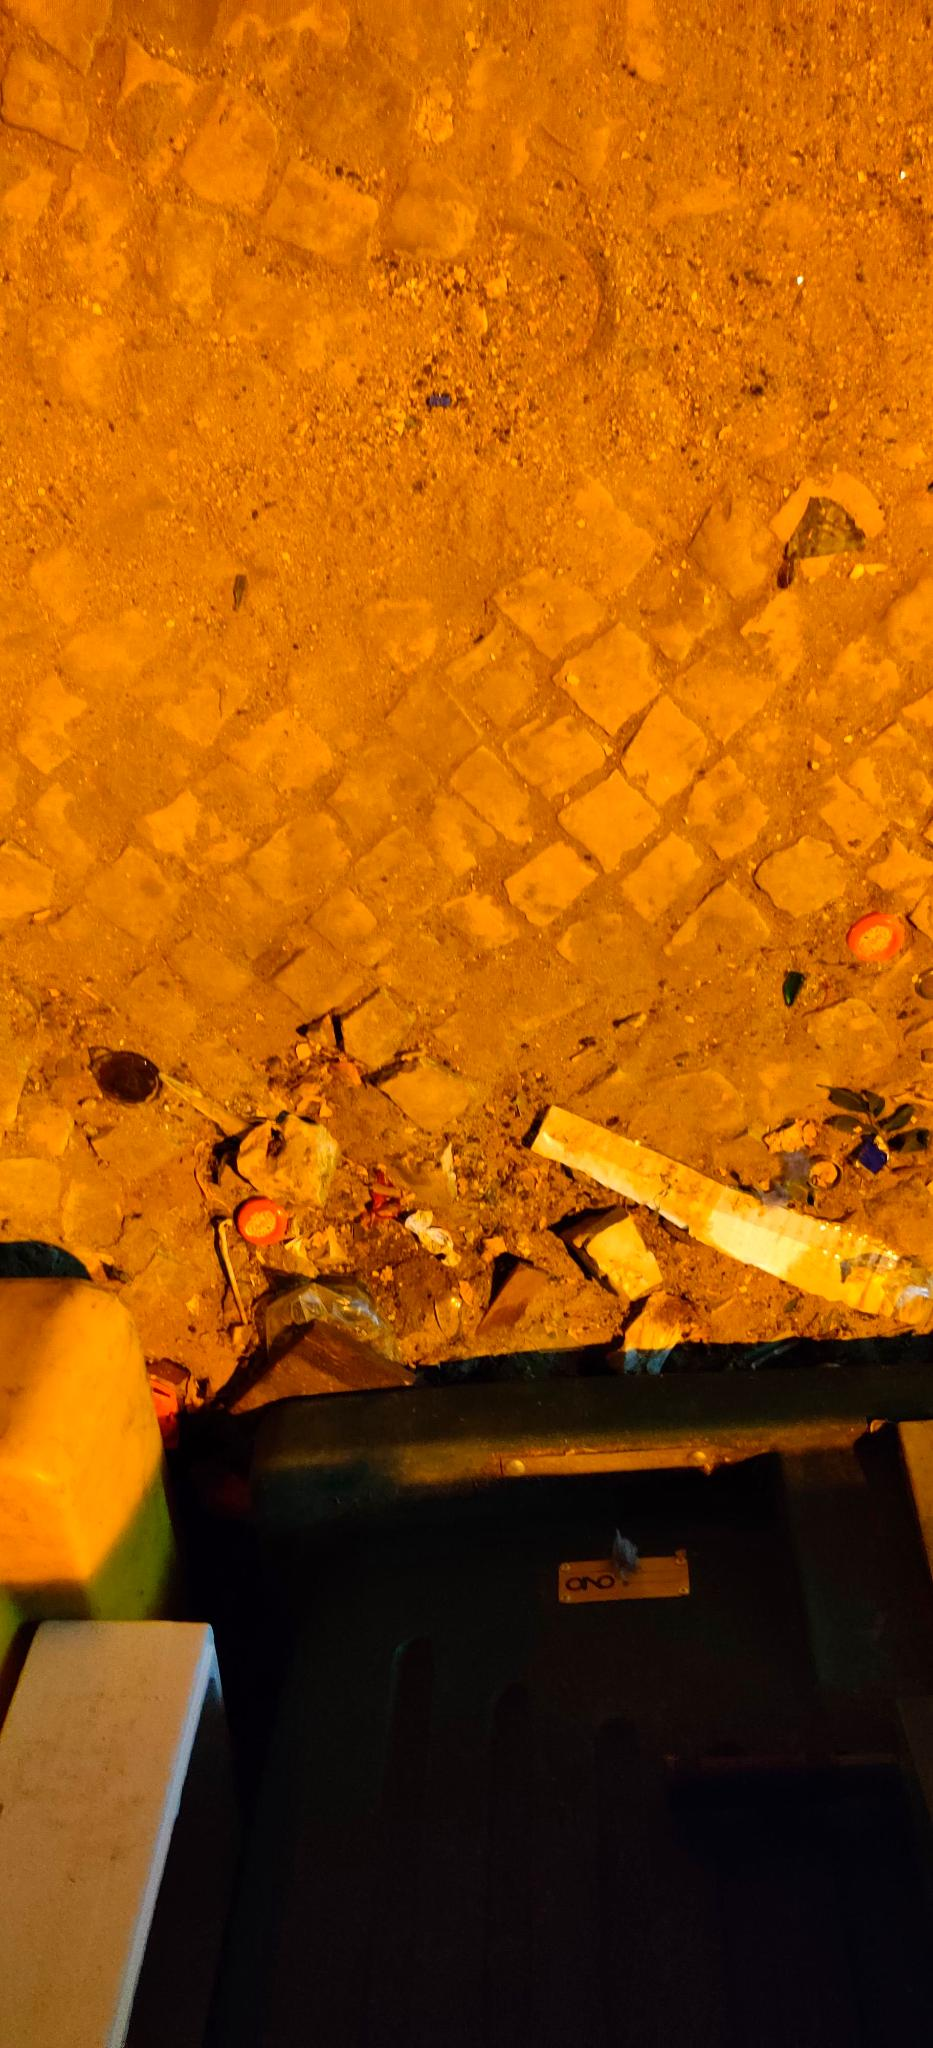Metal: (84, 1040, 179, 1114), (230, 1194, 295, 1250)
Plastic: (517, 1078, 933, 1337), (259, 1270, 402, 1369), (399, 1203, 465, 1268)
Trash: (209, 1207, 257, 1349)
